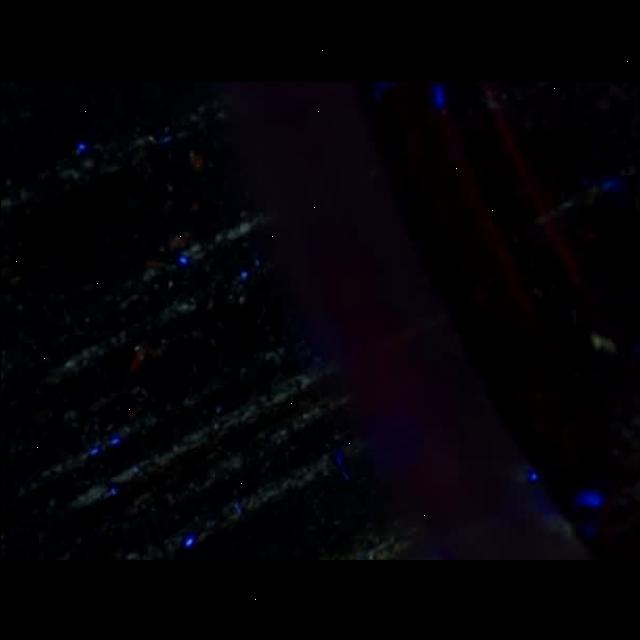microbeads: (588, 330, 614, 356)
